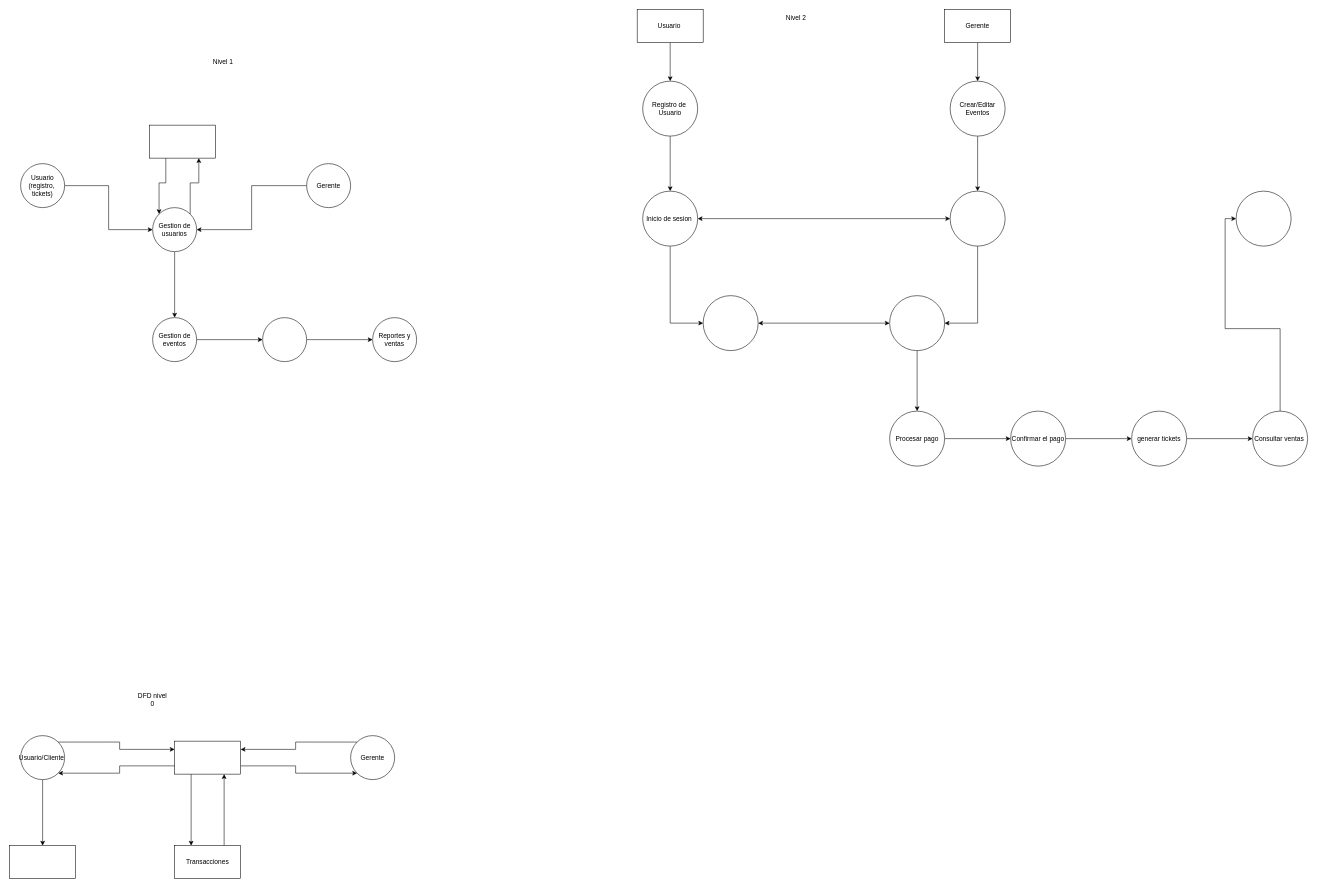
This 1317x888 diagram has some shape labels left out. The box of each missing label's shape, as (x1, y1, x2, y2) in pixels:
Actualizar perfil: (703, 295, 758, 351)
Confirmacion de tickets y pago: (9, 845, 76, 879)
Generar Reportes: (1236, 191, 1291, 246)
Gestion de tickets: (262, 317, 307, 362)
Mostar Eventos: (950, 191, 1005, 246)
Seleccionar Evento y cantidad: (889, 295, 945, 351)
Sistema Web de eventos int: (149, 125, 215, 158)
Sistema Web de Eventos Internacionales: (174, 741, 241, 774)
